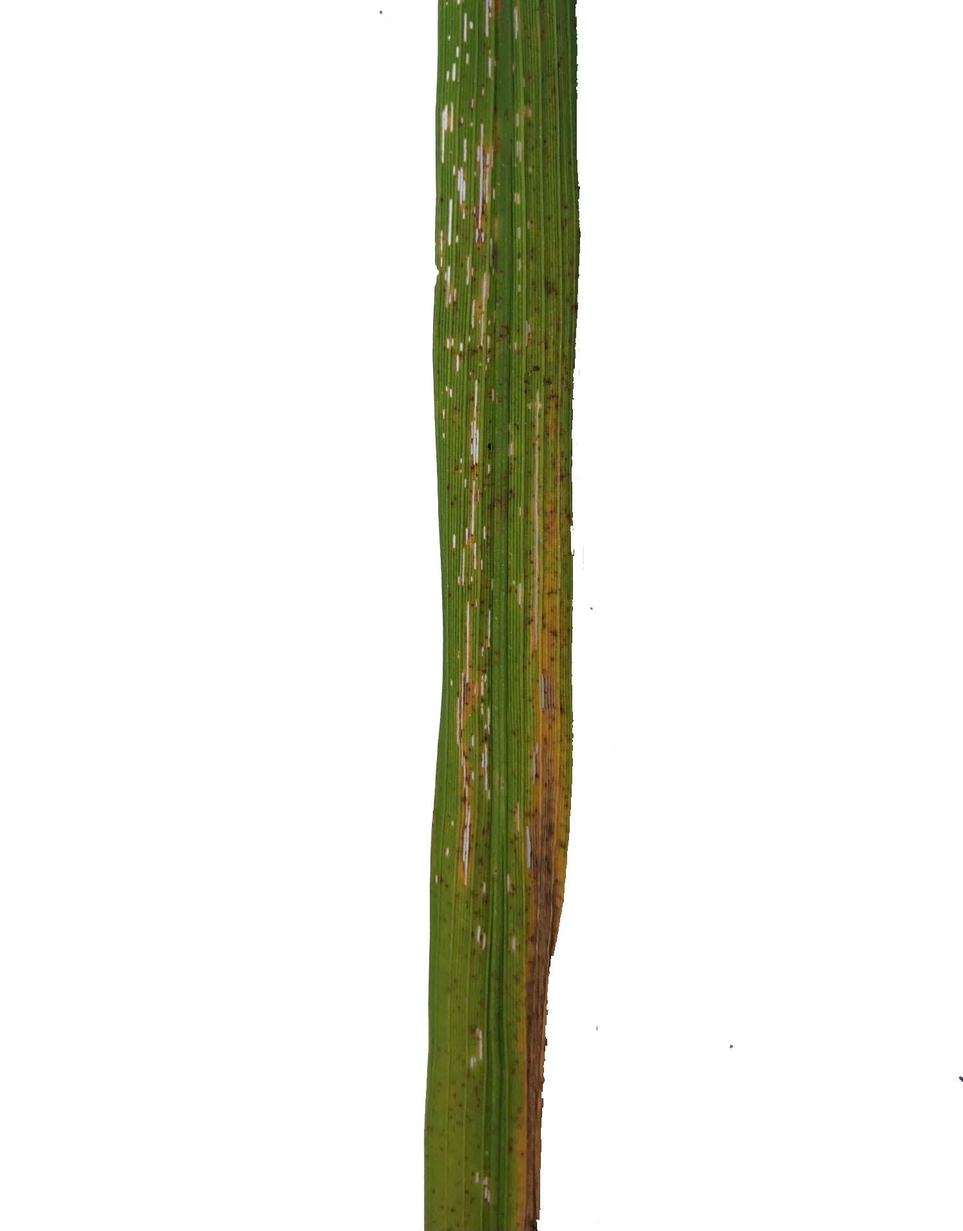Rice blast: (507, 734, 568, 1231)
Tungro: (417, 0, 590, 728)
